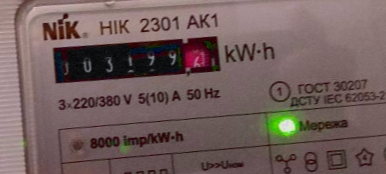0: (57, 56, 71, 78), (80, 53, 94, 74)
1: (123, 48, 136, 68)
3: (102, 54, 115, 74)
6: (191, 53, 203, 70)
9: (144, 47, 158, 68), (166, 46, 179, 66)
screen: (44, 24, 231, 98)
